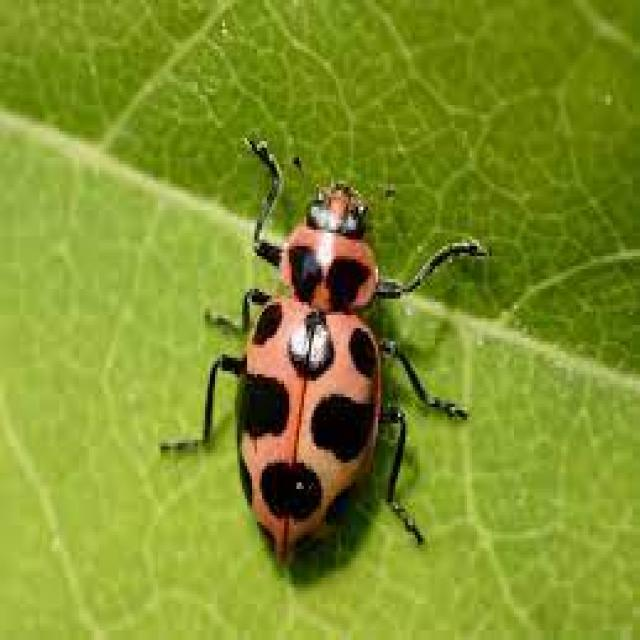bug: (162, 127, 497, 586)
